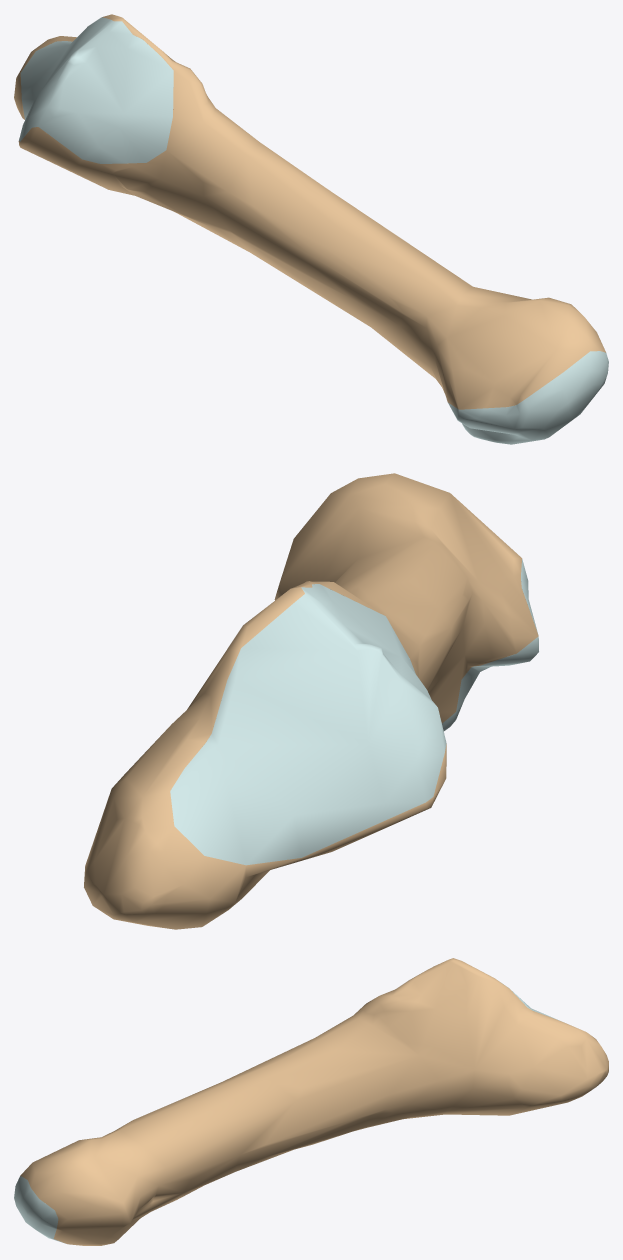
The model's file is 5th_metatarsal_bone.l_Generated_Mesh_From_X3D.920.glb.
The picture shows the model from 3 angles, top to bottom: view 1: azimuth 30°, elevation 25°; view 2: azimuth 150°, elevation 25°; view 3: azimuth 270°, elevation 25°; orthographic projection. The views are drawn at different scales.
Visible parts, largest first — view 1: 5th_metatarsal_bone.l_Generated_Mesh_From_X3D.920; view 2: 5th_metatarsal_bone.l_Generated_Mesh_From_X3D.920; view 3: 5th_metatarsal_bone.l_Generated_Mesh_From_X3D.920.
Boxes of the visible parts, x1=… form: 5th_metatarsal_bone.l_Generated_Mesh_From_X3D.920: x1=14, y1=14, x2=608, y2=444; 5th_metatarsal_bone.l_Generated_Mesh_From_X3D.920: x1=84, y1=473, x2=538, y2=929; 5th_metatarsal_bone.l_Generated_Mesh_From_X3D.920: x1=14, y1=958, x2=608, y2=1245.
Bounding box in the file's own units: 0.037 × 0.0312 × 0.0737.
